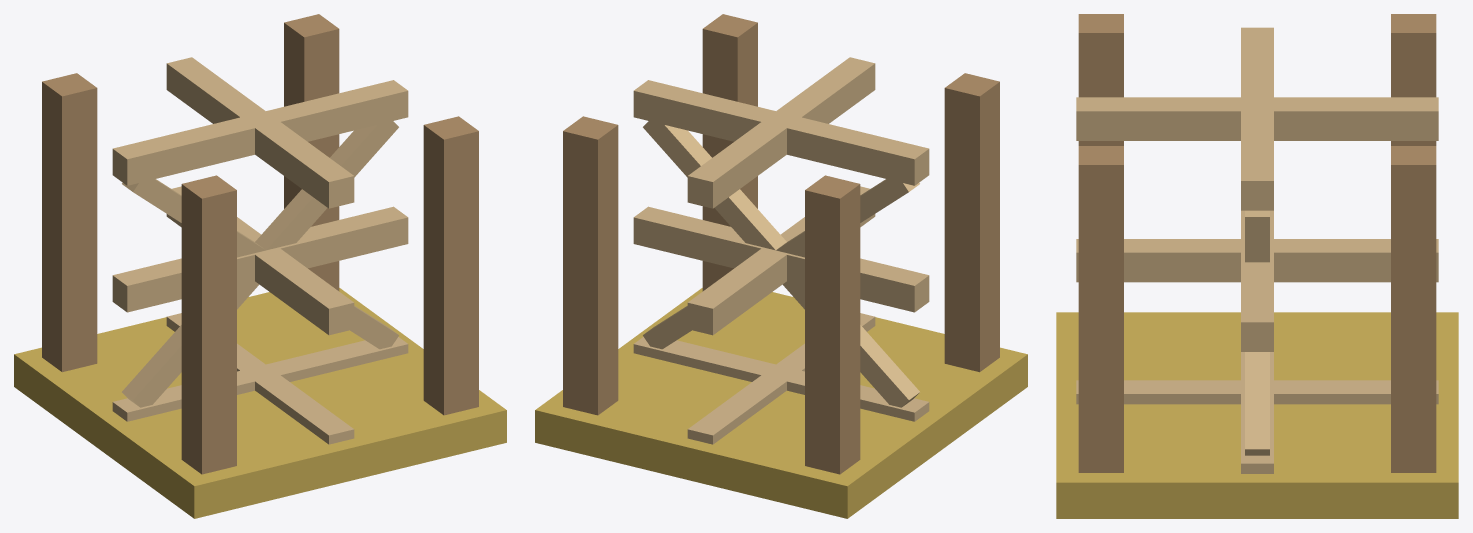
The model's file is cage.glb.
3 renders of one model, left to right at view 1: azimuth 30°, elevation 25°; view 2: azimuth 150°, elevation 25°; view 3: azimuth 270°, elevation 25°, orthographic. The views are drawn at different scales.
Parts seen in each view (by area): view 1: PangCagePost00; view 2: PangCagePost00; view 3: PangCagePost00.
Part boxes in pixels (x1=…): PangCagePost00: x1=14, y1=14, x2=506, y2=518; PangCagePost00: x1=535, y1=14, x2=1027, y2=518; PangCagePost00: x1=1056, y1=14, x2=1458, y2=518.
Bounding box in the file's own units: 1.6 × 1.51 × 1.6.
